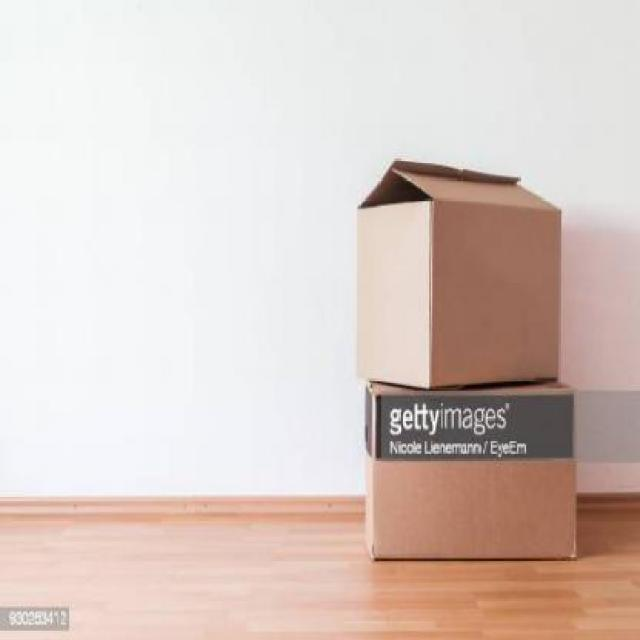box: (357, 156, 562, 394), (356, 373, 582, 566)
